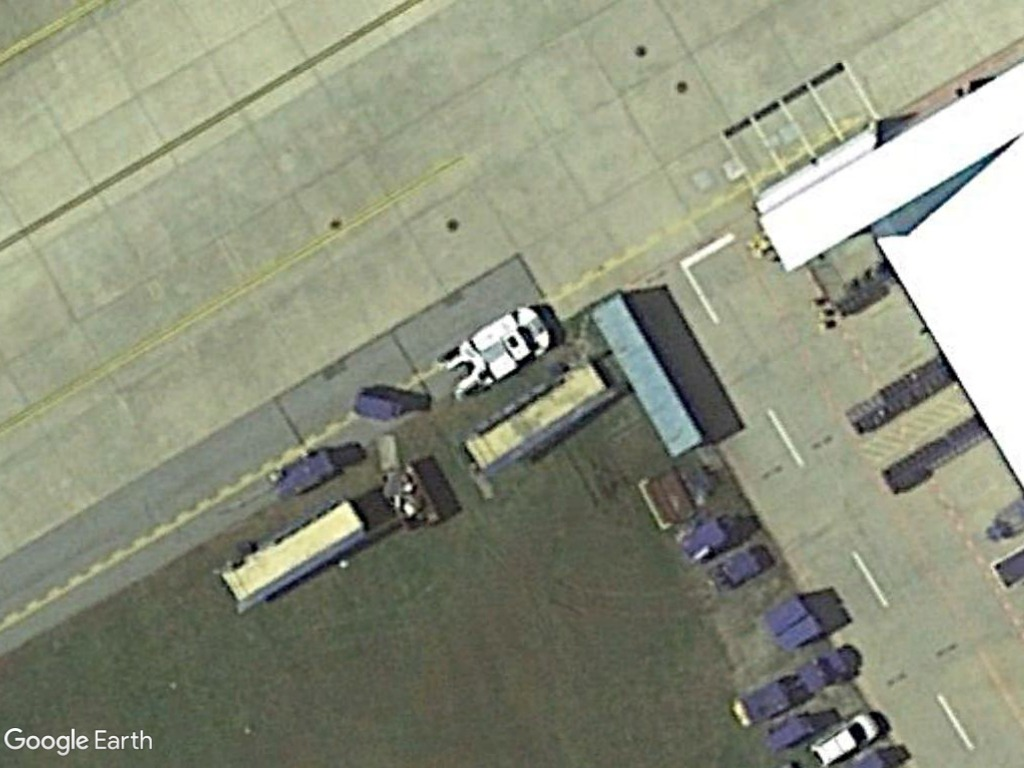car: (802, 710, 887, 768)
pushbacktruck: (433, 297, 562, 405)
